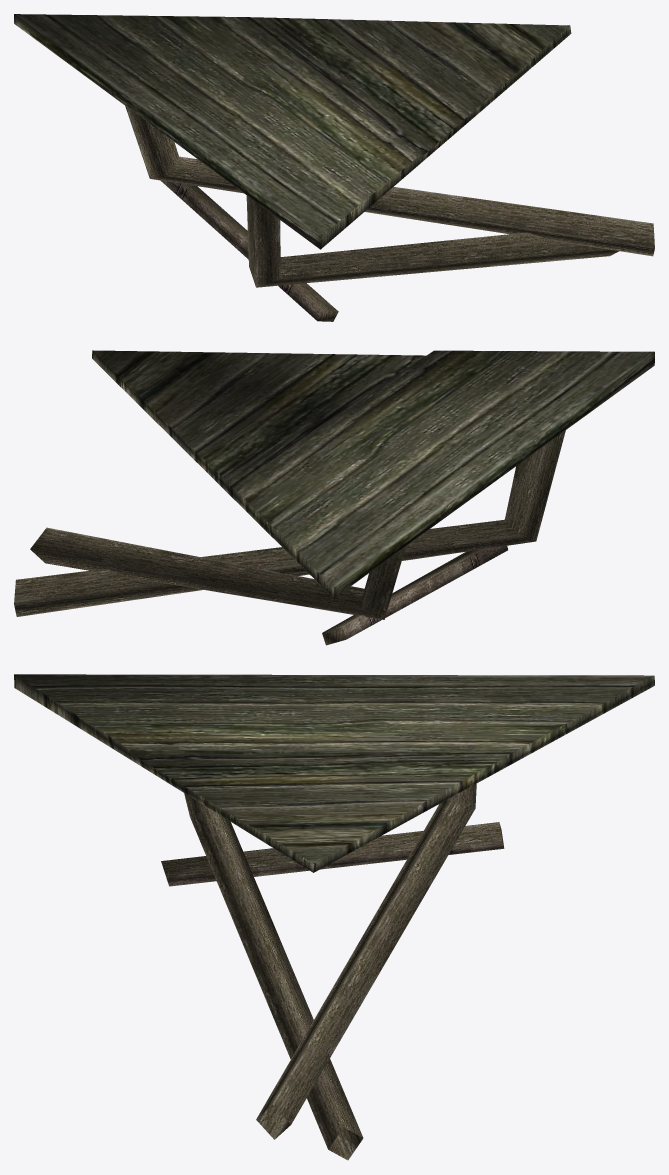
Rendered from MIN_LOB_BRIDGE_ANGEL_4M.glb.
3 renders of one model, top to bottom at view 1: azimuth 30°, elevation 25°; view 2: azimuth 150°, elevation 25°; view 3: azimuth 270°, elevation 25°, orthographic. The views are drawn at different scales.
Visible parts, largest first — view 1: Mesh; view 2: Mesh; view 3: Mesh.
Boxes of the visible parts, left/top/right/bottom form: Mesh: left=14, top=14, right=654, bottom=321; Mesh: left=14, top=350, right=654, bottom=645; Mesh: left=14, top=674, right=654, bottom=1160.
Bounding box in the file's own units: 6.63 × 3.5 × 7.58.
Materials: 2 (2 with a texture image).
